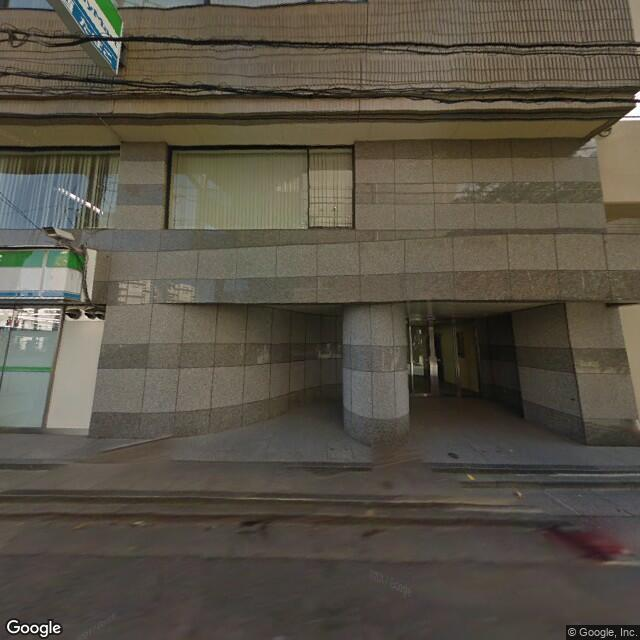family_mart: (1, 246, 90, 302), (67, 1, 121, 74)
